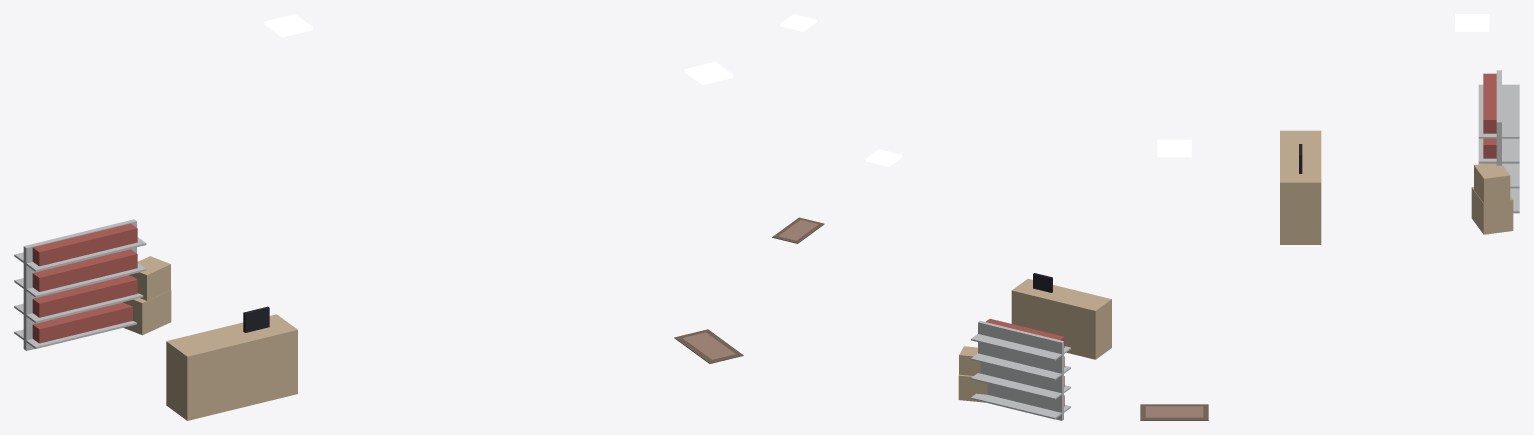
File: fine-s0.glb
The picture shows the model from 3 angles, left to right: view 1: azimuth 30°, elevation 25°; view 2: azimuth 150°, elevation 25°; view 3: azimuth 270°, elevation 25°; orthographic projection. The views are drawn at different scales.
Visible parts, largest first — view 1: shelving.000, shop-counter.000, cardboard-box.000, soft-s0, ceiling-lamp.000, ceiling-lamp.001; view 2: shelving.000, shop-counter.000, cardboard-box.000, soft-s0, ceiling-lamp.001, ceiling-lamp.000; view 3: shop-counter.000, shelving.000, cardboard-box.000, soft-s0, ceiling-lamp.000, ceiling-lamp.001.
Part boxes in pixels (left/top/right/bottom): shelving.000: left=14, top=219, right=146, bottom=350; shop-counter.000: left=166, top=306, right=297, bottom=420; cardboard-box.000: left=123, top=256, right=171, bottom=335; soft-s0: left=674, top=329, right=743, bottom=363; ceiling-lamp.000: left=684, top=61, right=733, bottom=85; ceiling-lamp.001: left=264, top=14, right=312, bottom=37; shelving.000: left=971, top=318, right=1070, bottom=420; shop-counter.000: left=1011, top=273, right=1111, bottom=359; cardboard-box.000: left=958, top=346, right=987, bottom=402; soft-s0: left=772, top=217, right=824, bottom=243; ceiling-lamp.001: left=865, top=149, right=902, bottom=166; ceiling-lamp.000: left=780, top=14, right=816, bottom=31; shop-counter.000: left=1280, top=130, right=1321, bottom=244; shelving.000: left=1478, top=70, right=1519, bottom=213; cardboard-box.000: left=1471, top=163, right=1513, bottom=234; soft-s0: left=1140, top=404, right=1208, bottom=420; ceiling-lamp.000: left=1157, top=139, right=1191, bottom=157; ceiling-lamp.001: left=1455, top=14, right=1489, bottom=31.
Bounding box in the file's own units: 8.68 × 4.28 × 5.54.
